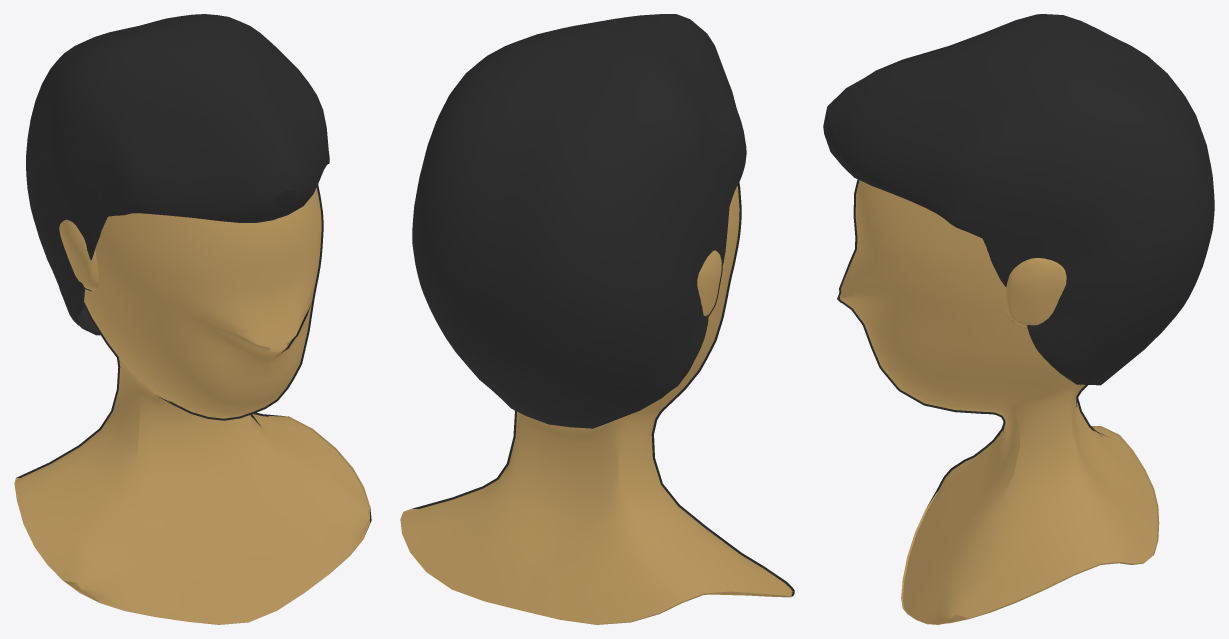
The model's file is Head.glb.
3 renders of one model, left to right at view 1: azimuth 30°, elevation 25°; view 2: azimuth 150°, elevation 25°; view 3: azimuth 270°, elevation 25°, orthographic. The views are drawn at different scales.
Parts seen in each view (by area): view 1: BODY; view 2: BODY; view 3: BODY.
Boxes of the visible parts, bbox=[...] form: BODY: bbox=[14, 14, 371, 624]; BODY: bbox=[400, 14, 794, 624]; BODY: bbox=[823, 14, 1214, 624].
Bounding box in the file's own units: 16.08 × 26.34 × 16.66.
